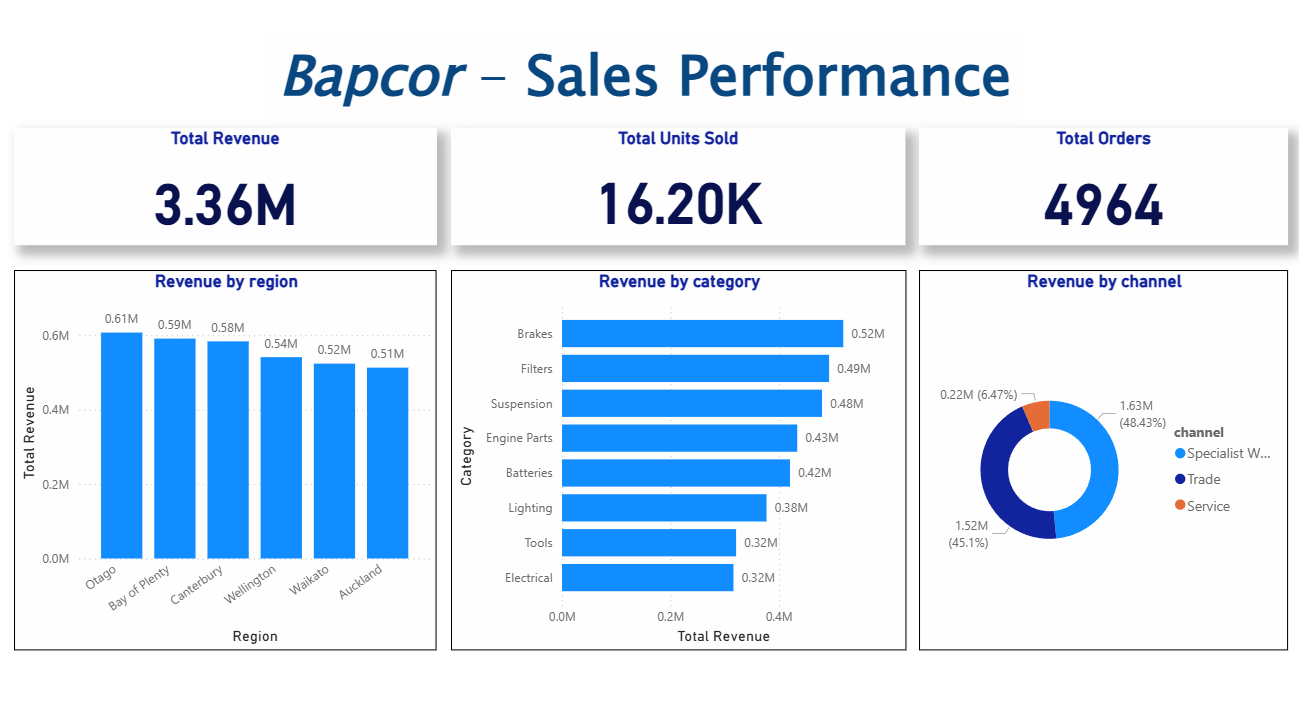

Layout of this report page (visuals, bound fields, positions):
{"tool":"powerbi","page":{"name":"Sales Performance","canvas":[1280,720],"ordinal":0},"visuals":[{"type":"textbox","box":[272.3,37.9,734.3,95.3],"z":0},{"type":"card","title":"Total Revenue","fields":{"Values":["Sum(bapcor_bi vw_sales_by_region.total_revenue)"]},"box":[24.9,133.6,411.1,113.9],"z":1},{"type":"card","title":"Total Units Sold","fields":{"Values":["Sum(bapcor_bi vw_sales_by_region.units_sold)"]},"box":[450.4,133.6,442.2,113.9],"z":2},{"type":"card","title":"Total Orders","fields":{"Values":["Sum(bapcor_bi vw_sales_by_region.order_count)"]},"box":[905.1,133.6,359.4,113.9],"z":3},{"type":"clusteredColumnChart","title":"Revenue by region","fields":{"Category":["bapcor_bi vw_sales_by_region.region"],"Y":["Sum(bapcor_bi vw_sales_by_region.total_revenue)"]},"box":[25.3,271.4,411.4,369.6],"z":4},{"type":"clusteredBarChart","title":"Revenue by category","fields":{"Category":["bapcor_bi vw_sales_by_category.category"],"Y":["Sum(bapcor_bi vw_sales_by_category.total_revenue)"]},"box":[450.1,271.4,442.6,369.6],"z":5},{"type":"donutChart","title":"Revenue by channel","fields":{"Category":["bapcor_bi vw_sales_by_region.channel"],"Y":["Sum(bapcor_bi vw_sales_by_region.total_revenue)"]},"box":[905.5,271.4,358.9,369.6],"z":6}]}

Visuals, with their boxes on the page's 1280x720 design canvas (x1, y1, x2, y2). These are canvas units, not pixel positions in the 1299x709 screenshot, which may show the page scaled, cropped or inside an application window:
textbox: x1=272, y1=38, x2=1007, y2=133
"Total Revenue" card: x1=25, y1=134, x2=436, y2=248
"Total Units Sold" card: x1=450, y1=134, x2=893, y2=248
"Total Orders" card: x1=905, y1=134, x2=1264, y2=248
"Revenue by region" clusteredColumnChart: x1=25, y1=271, x2=437, y2=641
"Revenue by category" clusteredBarChart: x1=450, y1=271, x2=893, y2=641
"Revenue by channel" donutChart: x1=906, y1=271, x2=1264, y2=641
